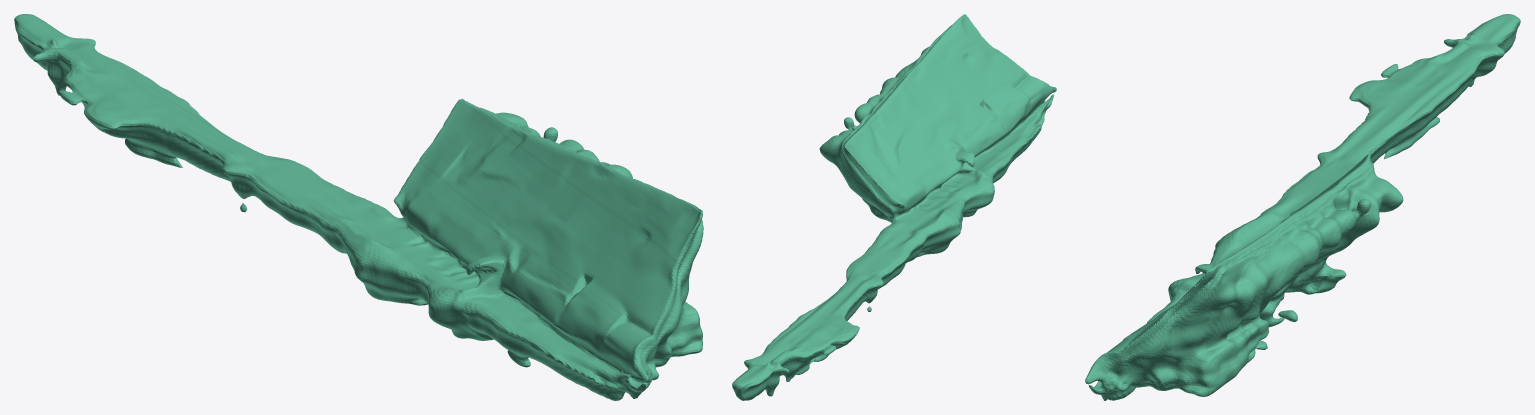
Rendered from airplane_01.glb.
3 renders of one model, left to right at view 1: azimuth 30°, elevation 25°; view 2: azimuth 150°, elevation 25°; view 3: azimuth 330°, elevation 25°, orthographic. The views are drawn at different scales.
Parts seen in each view (by area): view 1: world; view 2: world; view 3: world.
Part boxes in pixels (x1=…): world: x1=14, y1=14, x2=703, y2=400; world: x1=732, y1=14, x2=1056, y2=400; world: x1=1085, y1=14, x2=1520, y2=400.
Size of the model in its own units: 0.5203 by 0.374 by 1.99.
